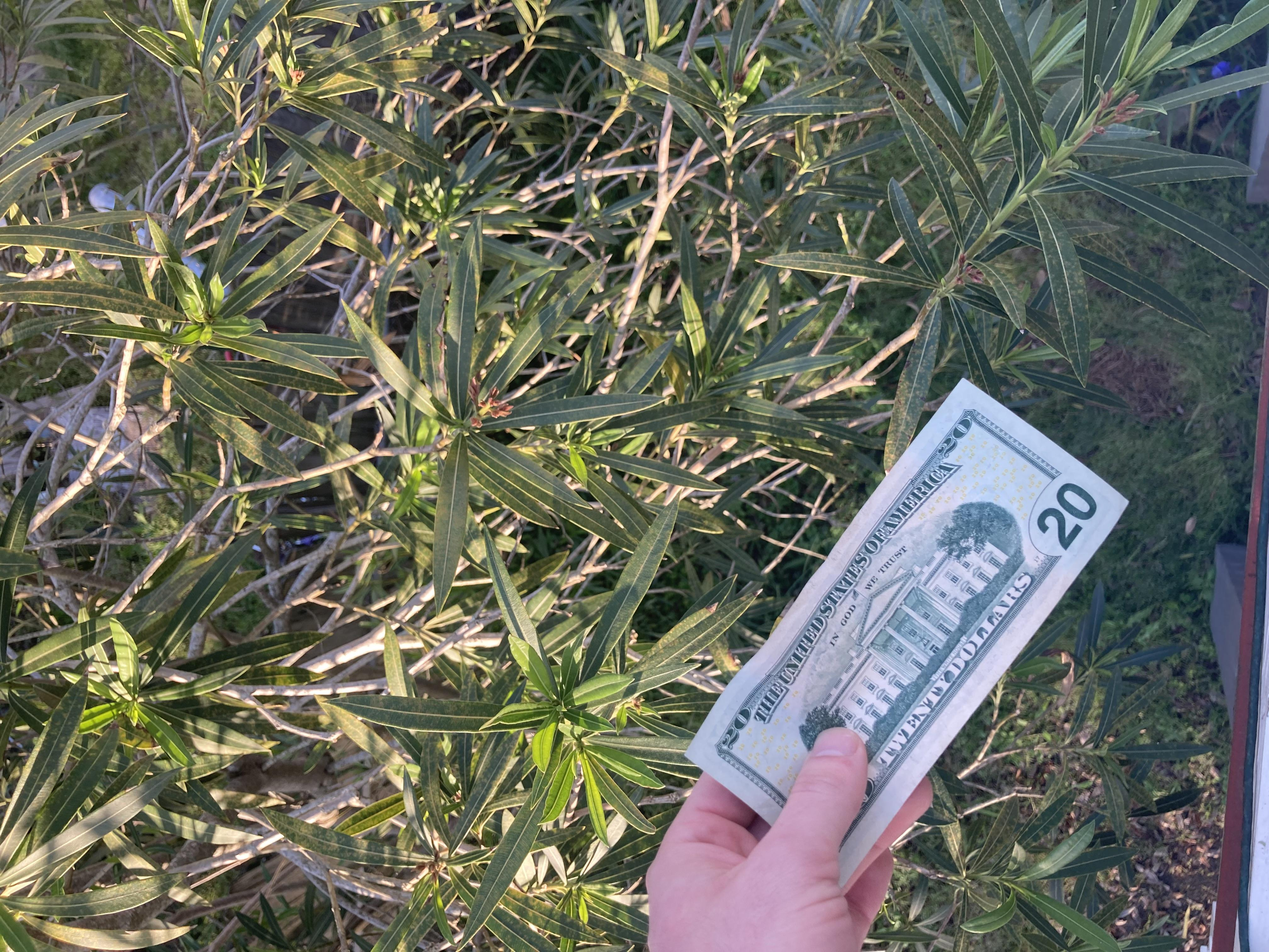twenty-back: (82, 510, 768, 848)
